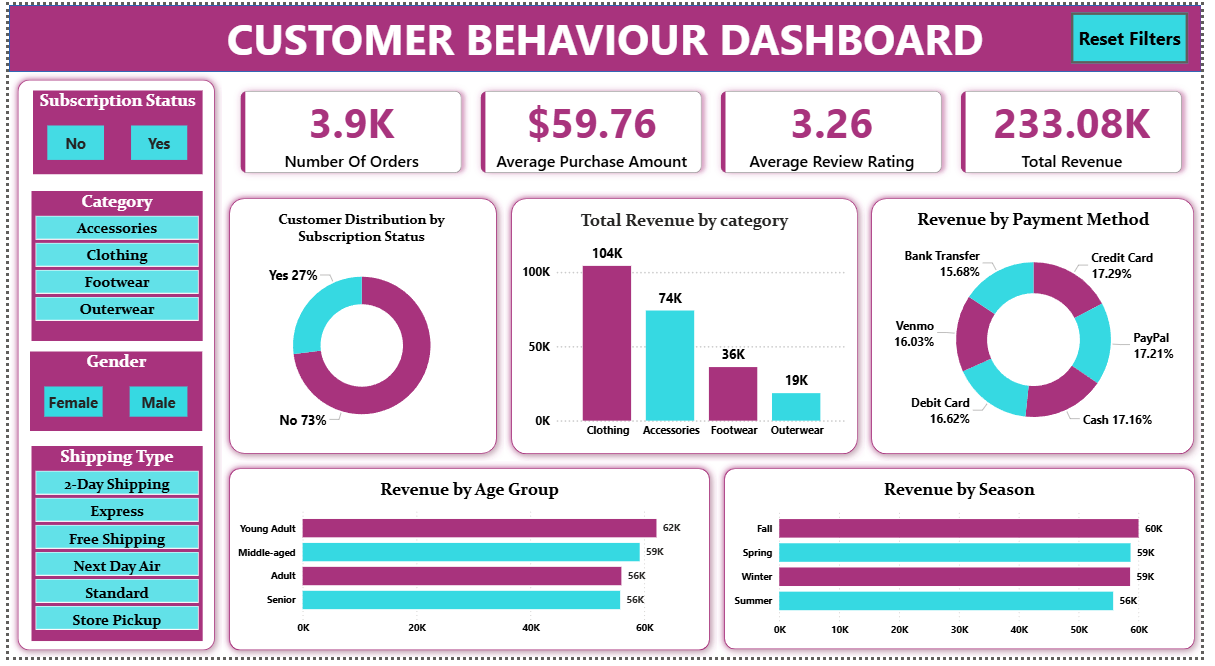

Layout of this report page (visuals, bound fields, positions):
{"tool":"powerbi","page":{"name":"Page 1","canvas":[1500,820],"ordinal":0},"visuals":[{"type":"cardVisual","fields":{"Data":["customer.Number Of Orders","customer.Average Purchase Amount","customer.Average Review Rating","customer.Revenue"]},"box":[267.9,84.9,1232.1,149.1],"z":0},{"type":"shape","box":[0,0,1500,84],"z":1000},{"type":"textbox","box":[0,0,1500,84],"z":2000},{"type":"shape","box":[267.9,234,354.7,339.6],"z":3000},{"type":"donutChart","title":"Customer Distribution by Subscription Status","fields":{"Category":["customer.subscription_status"],"Y":["CountNonNull(customer.customer_id)"]},"box":[283,258.5,320.8,296.2],"z":4000},{"type":"shape","box":[622,234,454,340],"z":5000},{"type":"shape","box":[1076,234,424,340],"z":6000},{"type":"columnChart","fields":{"Category":["customer.category"],"Y":["customer.Revenue"]},"box":[640,258,420,296],"z":7000},{"type":"donutChart","title":"Revenue by Payment Method","fields":{"Category":["customer.payment_method"],"Y":["customer.Revenue"]},"box":[1094,256,388,302],"z":8000},{"type":"shape","box":[267.9,573.6,622.6,247.2],"z":9000},{"type":"shape","box":[890,574,610,246],"z":10000},{"type":"clusteredBarChart","title":"Revenue by Age Group","fields":{"Category":["customer.age_group"],"Y":["customer.Revenue"]},"box":[283,592.5,590.6,207.5],"z":11000},{"type":"clusteredBarChart","title":"Revenue by Season","fields":{"Y":["customer.Revenue"],"Category":["customer.season"]},"box":[908,592,576,208],"z":12000},{"type":"shape","box":[1.9,84.9,266,735.8],"z":13000},{"type":"advancedSlicerVisual","title":"Subscription Status","fields":{"Values":["customer.subscription_status"]},"box":[30.2,107.5,213.2,105.7],"z":14000},{"type":"advancedSlicerVisual","title":"Gender","fields":{"Values":["customer.gender"]},"box":[26.4,435.8,217,100],"z":15000},{"type":"listSlicer","title":"Category","fields":{"Values":["customer.category"]},"box":[28.3,234,215.1,188.7],"z":16000},{"type":"listSlicer","title":"Shipping Type","fields":{"Values":["customer.shipping_type"]},"box":[28.3,554.7,215.1,245.3],"z":17000},{"type":"actionButton","box":[1335.8,9.4,147.2,64.2],"z":18000}]}

Visuals, with their boxes in screenshot pixels (x1, y1, x2, y2), scaled from the page's 1500x820 canvas onto the 1215x666 screenshot:
cardVisual - customer.Number Of Orders x customer.Average Purchase Amount: (217, 69, 1214, 190)
shape: (0, 0, 1214, 68)
textbox: (0, 0, 1214, 68)
shape: (217, 190, 504, 466)
"Customer Distribution by Subscription Status" donutChart: (229, 210, 489, 451)
shape: (504, 190, 872, 466)
shape: (872, 190, 1214, 466)
columnChart - customer.category x customer.Revenue: (518, 210, 859, 450)
"Revenue by Payment Method" donutChart: (886, 208, 1200, 453)
shape: (217, 466, 721, 665)
shape: (721, 466, 1214, 665)
"Revenue by Age Group" clusteredBarChart: (229, 481, 708, 650)
"Revenue by Season" clusteredBarChart: (735, 481, 1202, 650)
shape: (2, 69, 217, 665)
"Subscription Status" advancedSlicerVisual: (24, 87, 197, 173)
"Gender" advancedSlicerVisual: (21, 354, 197, 435)
"Category" listSlicer: (23, 190, 197, 343)
"Shipping Type" listSlicer: (23, 451, 197, 650)
actionButton: (1082, 8, 1201, 60)
